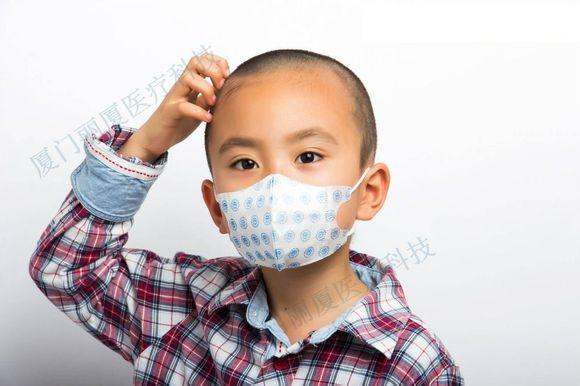OK: (214, 116, 363, 265)
